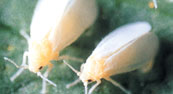whitefly: (1, 0, 96, 93), (62, 20, 160, 93)
